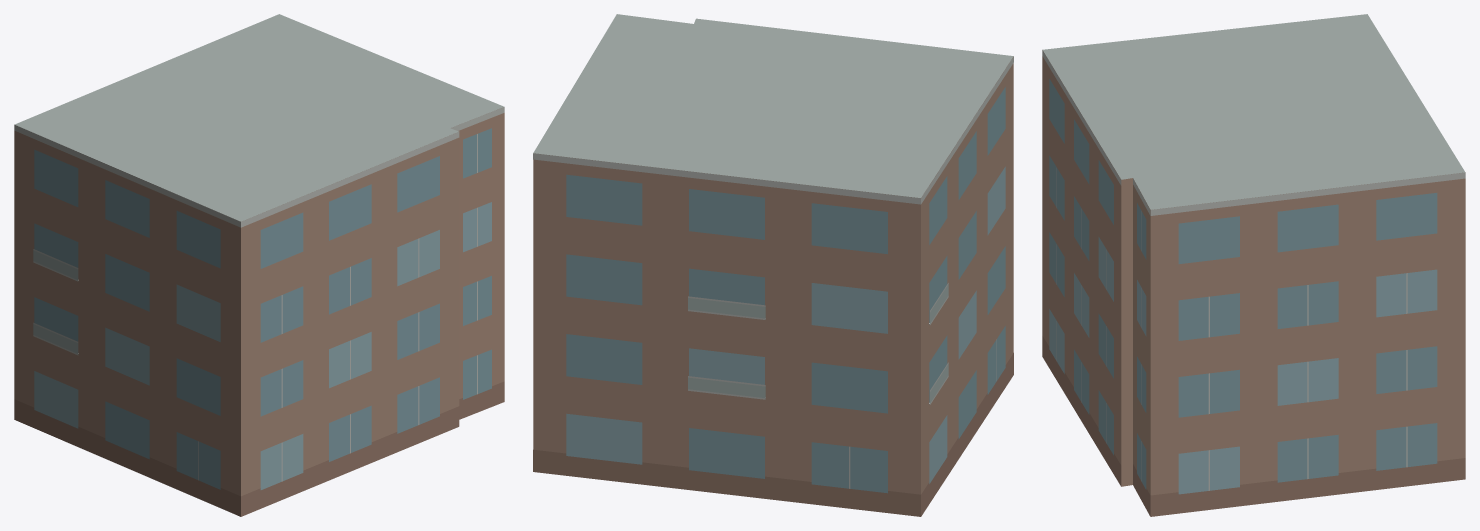
Rendered from survey-upis-33046491.glb.
The picture shows the model from 3 angles, left to right: view 1: azimuth 30°, elevation 25°; view 2: azimuth 150°, elevation 25°; view 3: azimuth 270°, elevation 25°; orthographic projection. The views are drawn at different scales.
Visible parts, largest first — view 1: survey-upis-33046491.tmp; view 2: survey-upis-33046491.tmp; view 3: survey-upis-33046491.tmp.
Part boxes in pixels (<box>): survey-upis-33046491.tmp: <box>14,14,504,516</box>; survey-upis-33046491.tmp: <box>533,14,1013,516</box>; survey-upis-33046491.tmp: <box>1042,14,1465,516</box>.
Size of the model in its own units: 16.71 by 12.2 by 15.25.
